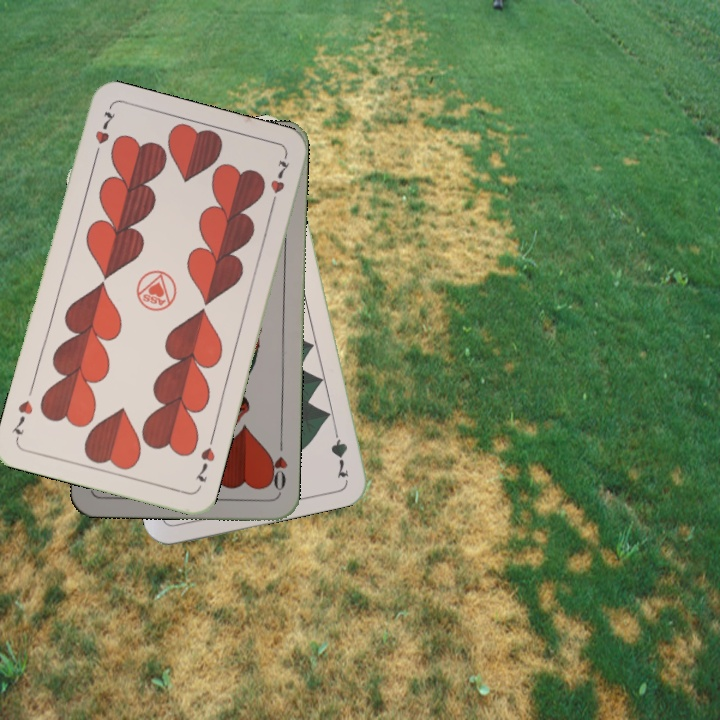G7: (327, 421, 351, 481)
H7: (90, 107, 118, 163), (191, 432, 218, 485)
HO: (264, 436, 290, 495)
